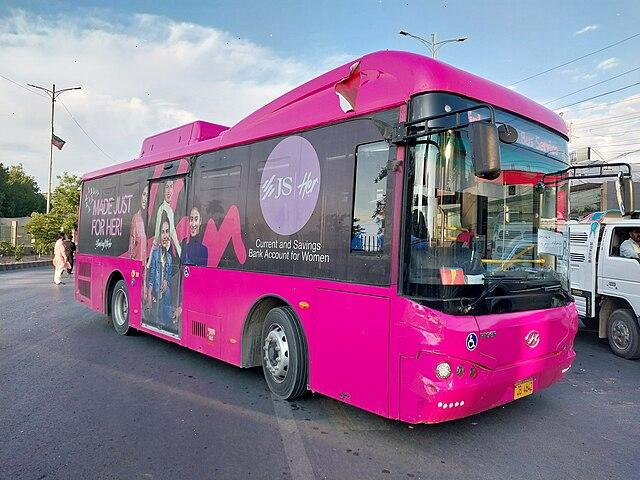Bus: (60, 67, 600, 422)
